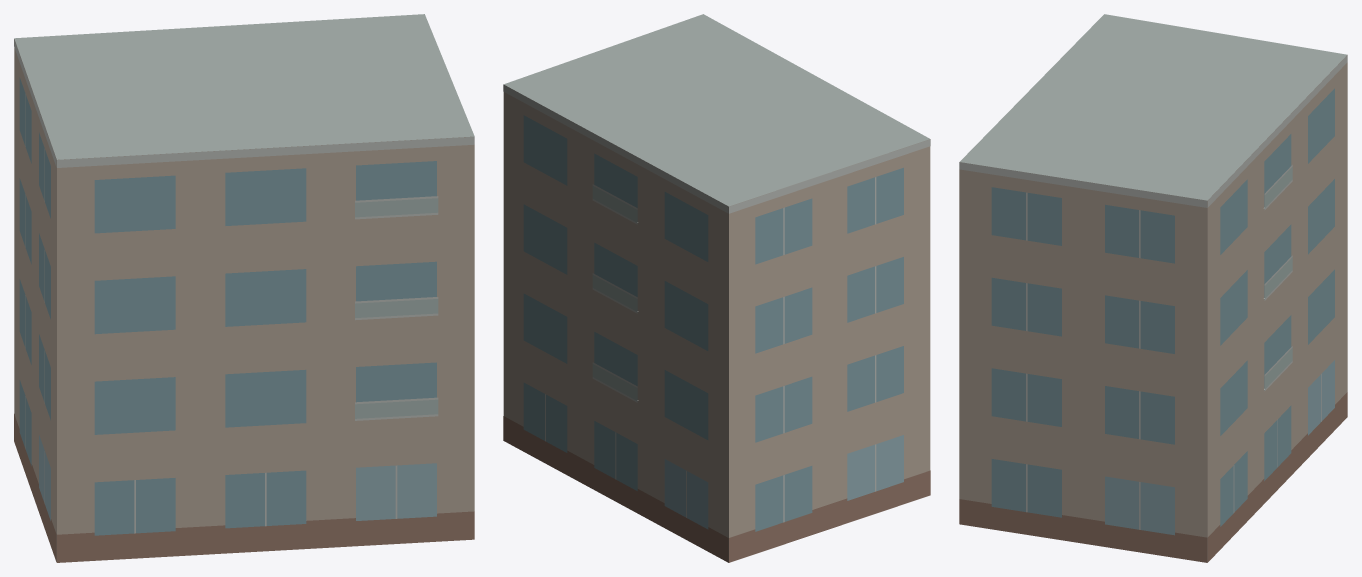
The model's file is survey-upis-32538472.glb.
3 renders of one model, left to right at view 1: azimuth 30°, elevation 25°; view 2: azimuth 150°, elevation 25°; view 3: azimuth 270°, elevation 25°, orthographic. The views are drawn at different scales.
Parts seen in each view (by area): view 1: survey-upis-32538472.tmp; view 2: survey-upis-32538472.tmp; view 3: survey-upis-32538472.tmp.
Boxes of the visible parts, box(x1,y1,x2,y2) form: survey-upis-32538472.tmp: box(14, 14, 474, 562); survey-upis-32538472.tmp: box(503, 14, 930, 562); survey-upis-32538472.tmp: box(959, 14, 1347, 562).
Size of the model in its own units: 13.21 by 11.95 by 11.61.
